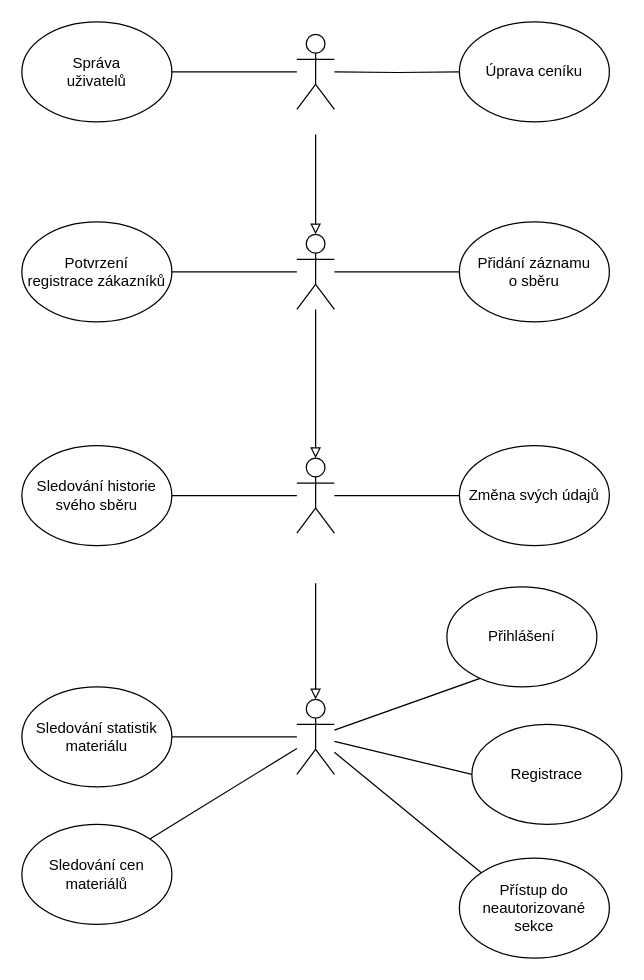
Image size: 644x980. Some labels were removed from this diagram. The centre of each missing label's shape, as x and y in pixels:
"Admin" goes at (x=315, y=71).
"Employee" goes at (x=315, y=271).
"Logged User" goes at (x=315, y=495).
"Non-logged User" goes at (x=315, y=736).
